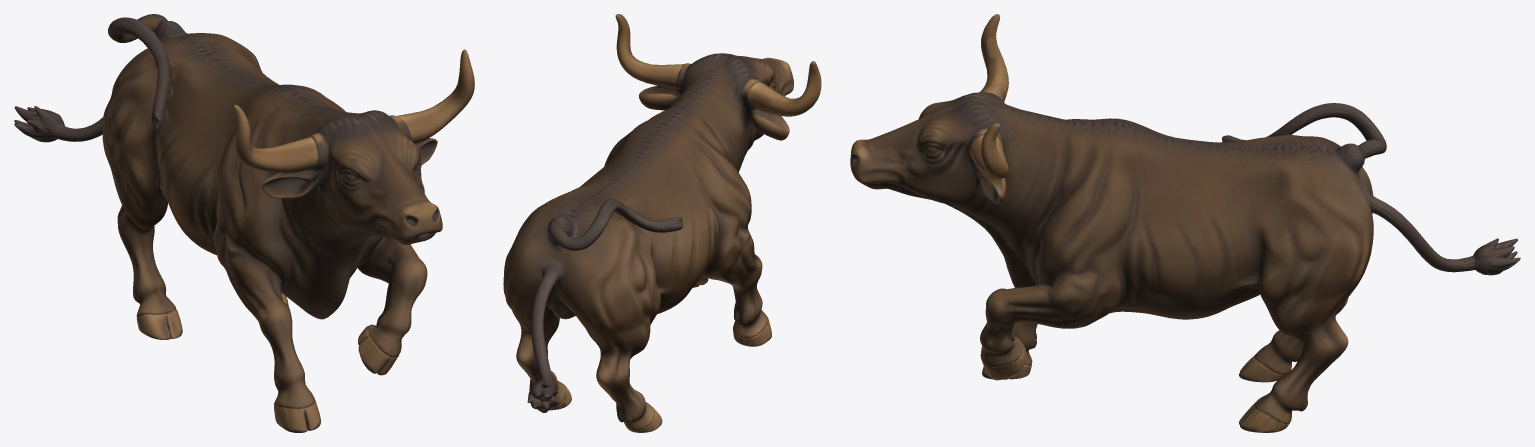
Rendered from bull_statue.glb.
The picture shows the model from 3 angles, left to right: view 1: azimuth 30°, elevation 25°; view 2: azimuth 150°, elevation 25°; view 3: azimuth 270°, elevation 25°; orthographic projection. The views are drawn at different scales.
Bounding box in the file's own units: 0.7567 × 1.04 × 1.91.
Materials: 1 (1 with a texture image).
